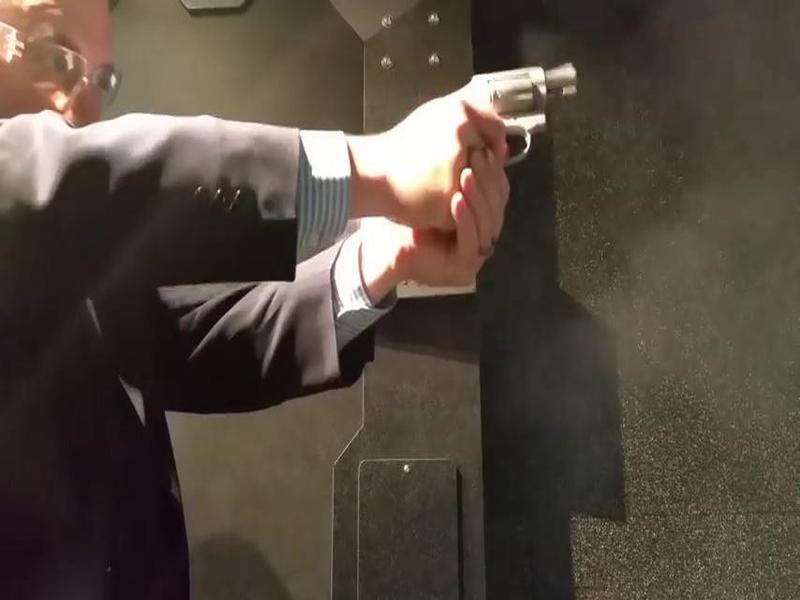Revolver: (452, 55, 585, 166)
